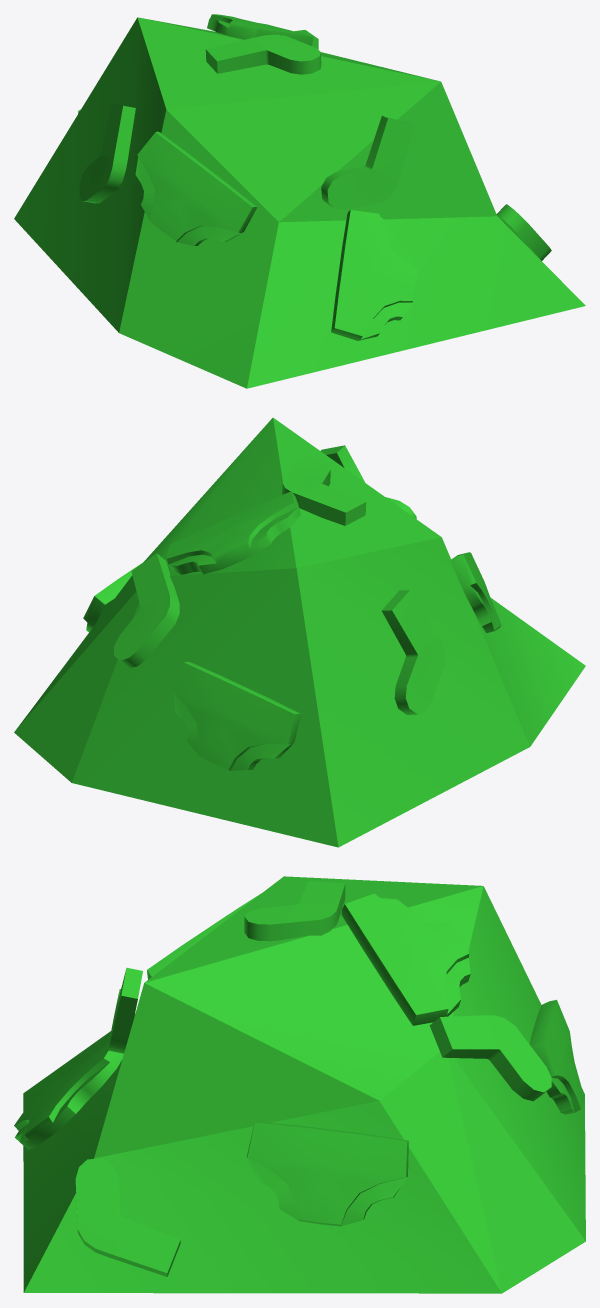
Rendered from SM_clothes.FBX.
3 views of the same model, one above another, from view 1: azimuth 30°, elevation 25°; view 2: azimuth 150°, elevation 25°; view 3: azimuth 270°, elevation 25° (orthographic). The views are drawn at different scales.
Parts seen in each view (by area): view 1: clothes; view 2: clothes; view 3: clothes.
Part boxes in pixels (x1,y1,x2,y2): clothes: (14,14,585,388); clothes: (14,417,585,847); clothes: (14,876,585,1293).
Size of the model in its own units: 373 by 214 by 400.
